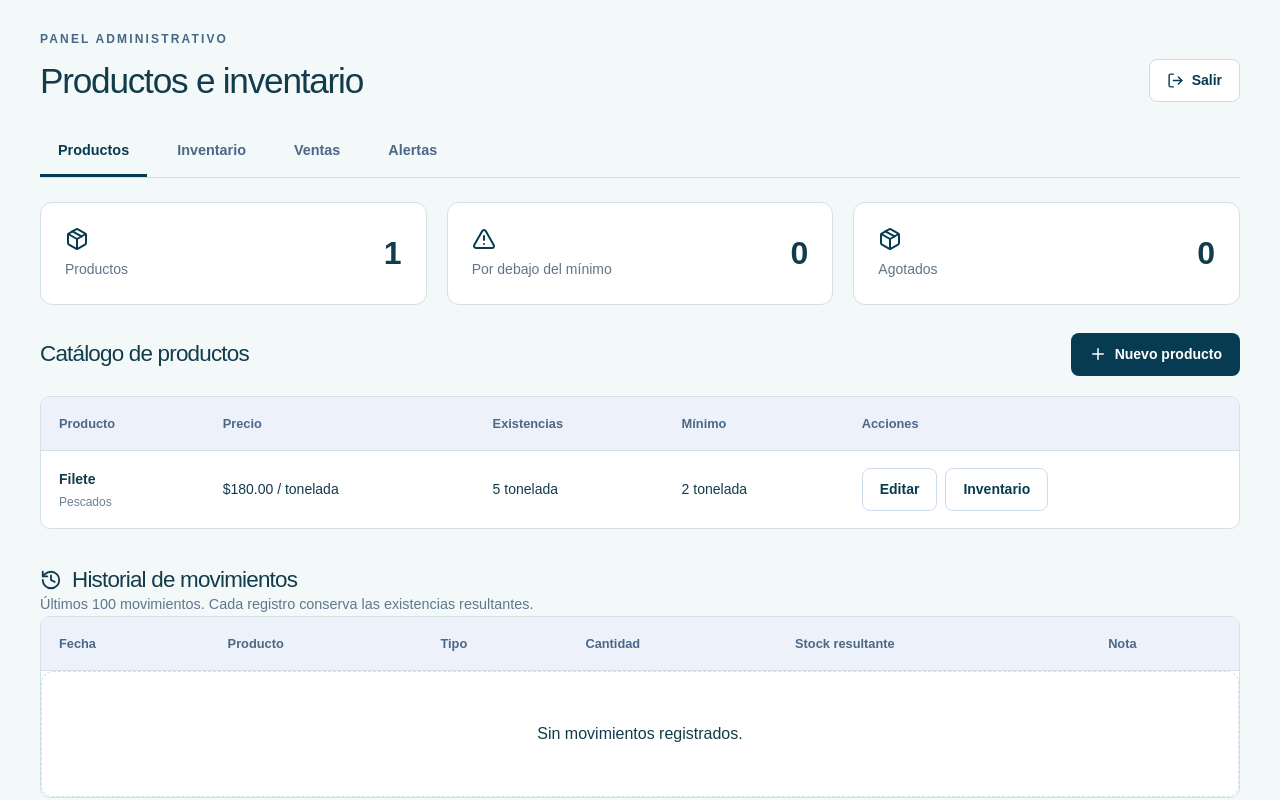
Acceso e interacción del inventario › abre un diálogo visible, registra una entrada y cierra al guardar
This screenshot has width=1280, height=800.
Click the button "Inventario": (997, 490) [945, 468, 1048, 511]
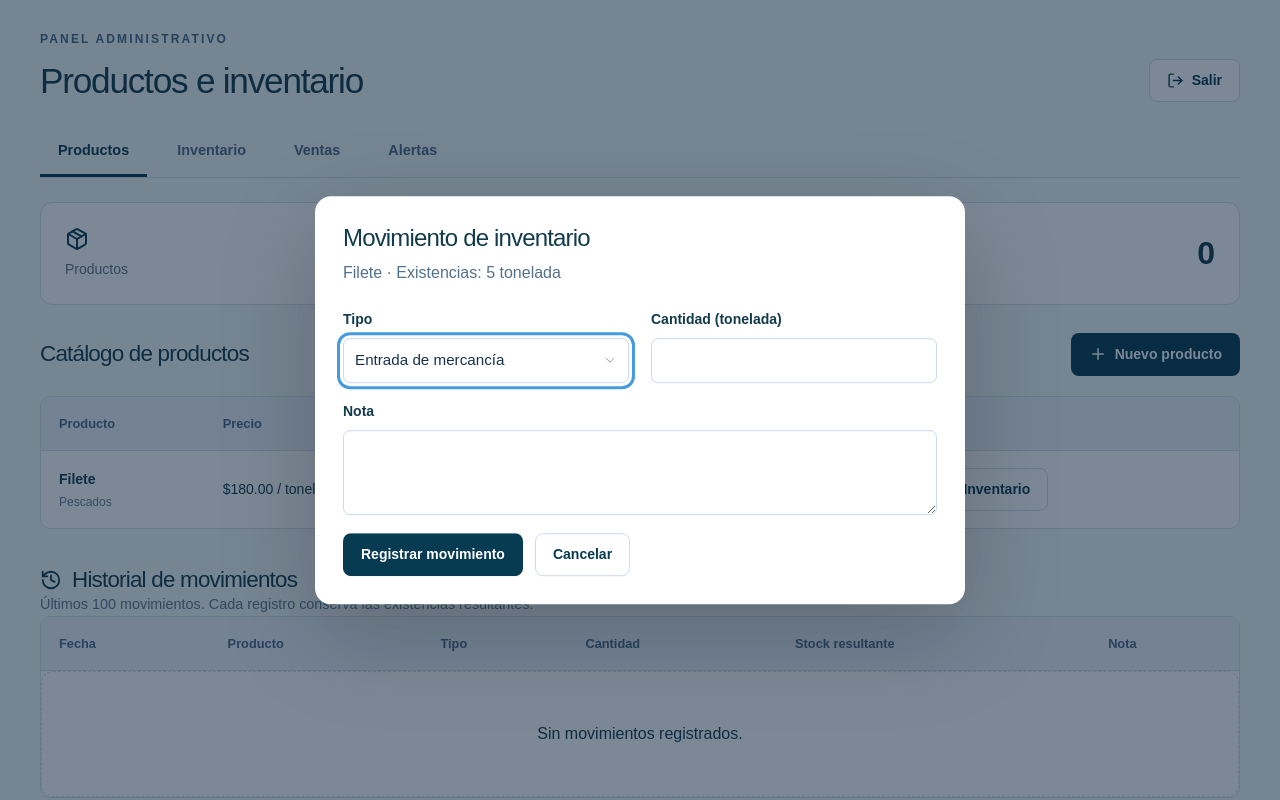
In the number field labelled "Cantidad (tonelada)": (794, 360) [651, 338, 937, 383], type "2.5"
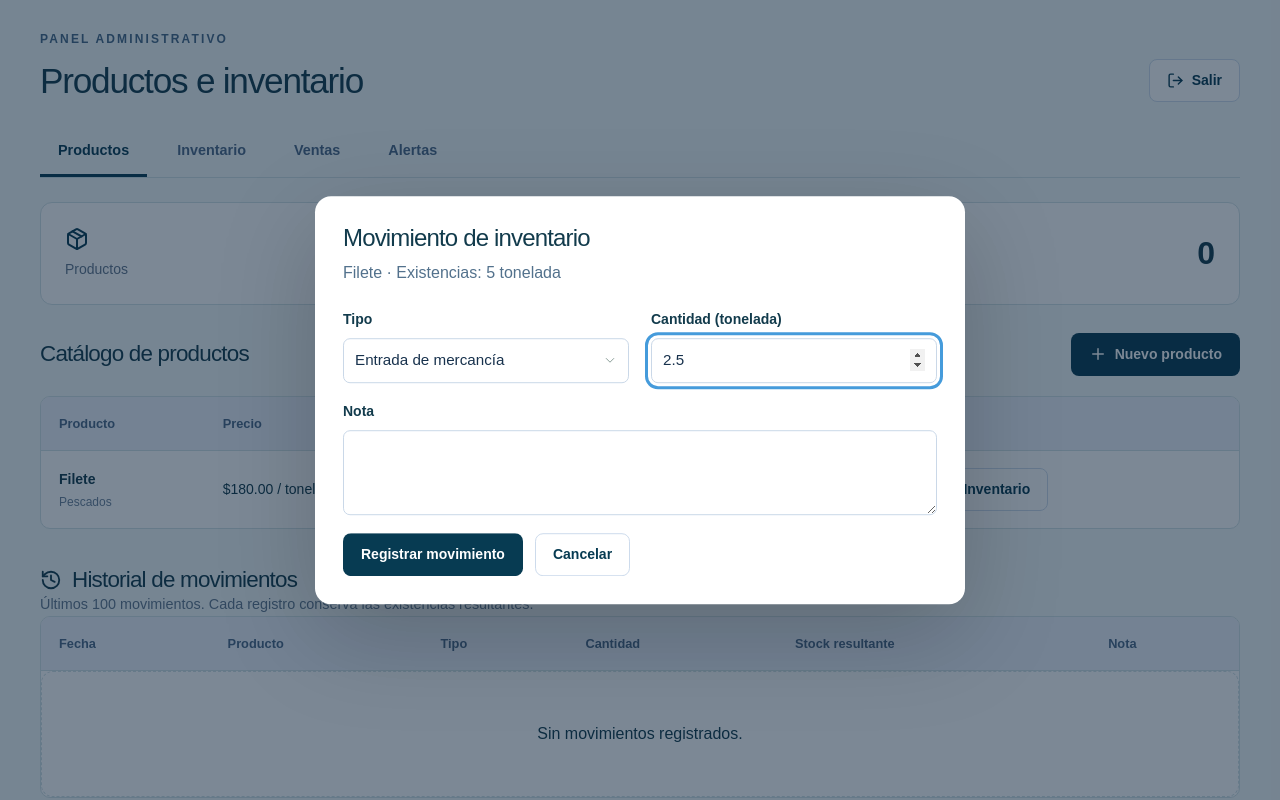
Click the button "Registrar movimiento": (433, 554) [343, 533, 523, 576]
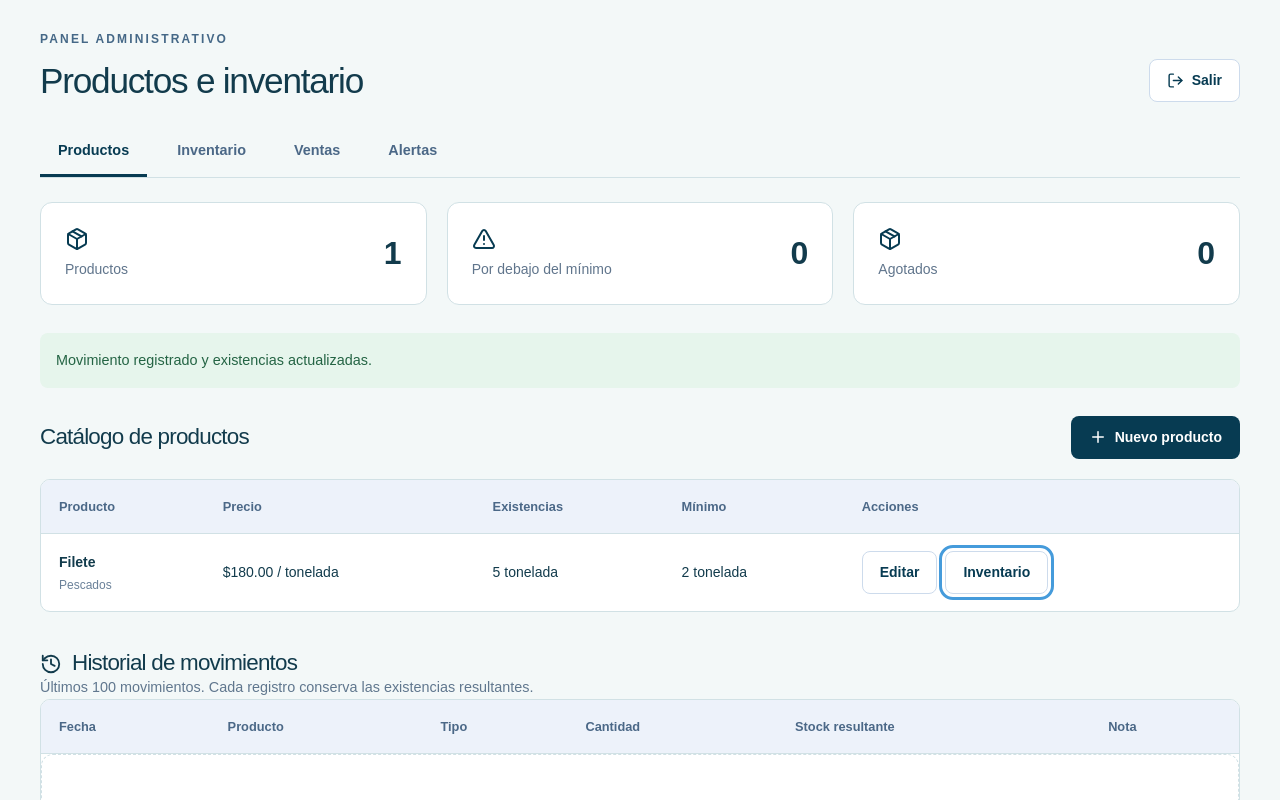
Expected: the dialog is gone
